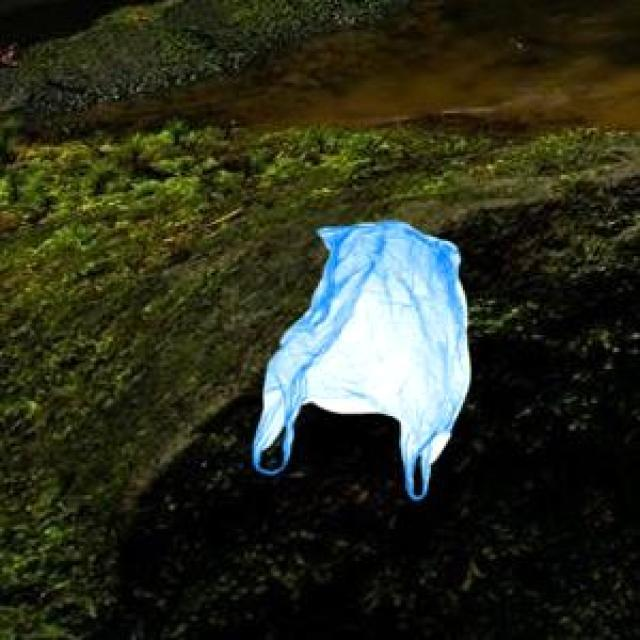Plastic_Bag: (251, 218, 466, 496)
